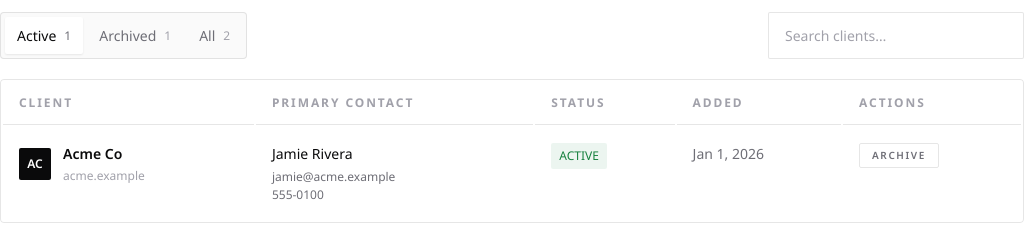
Test: ClientsTable › switches to the Archived tab to show archived clients
Click the tab "Archived 1" at (135, 36), box [87,17,183,54]
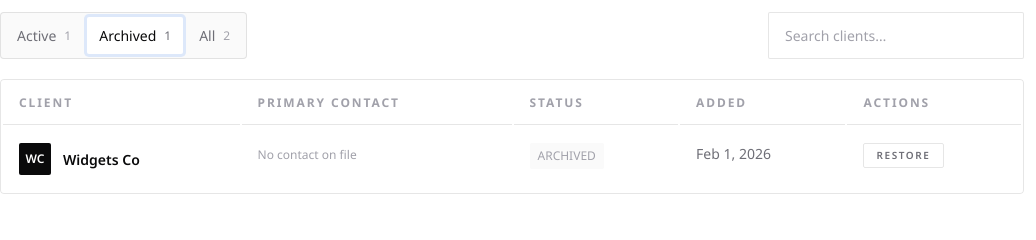
Now the text "Widgets Co" is shown, box [63,148,140,170]
Now the link "Acme Co" is gone
